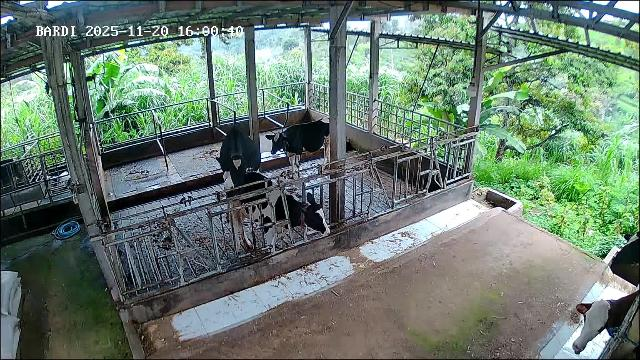mounting: (215, 125, 261, 223)
